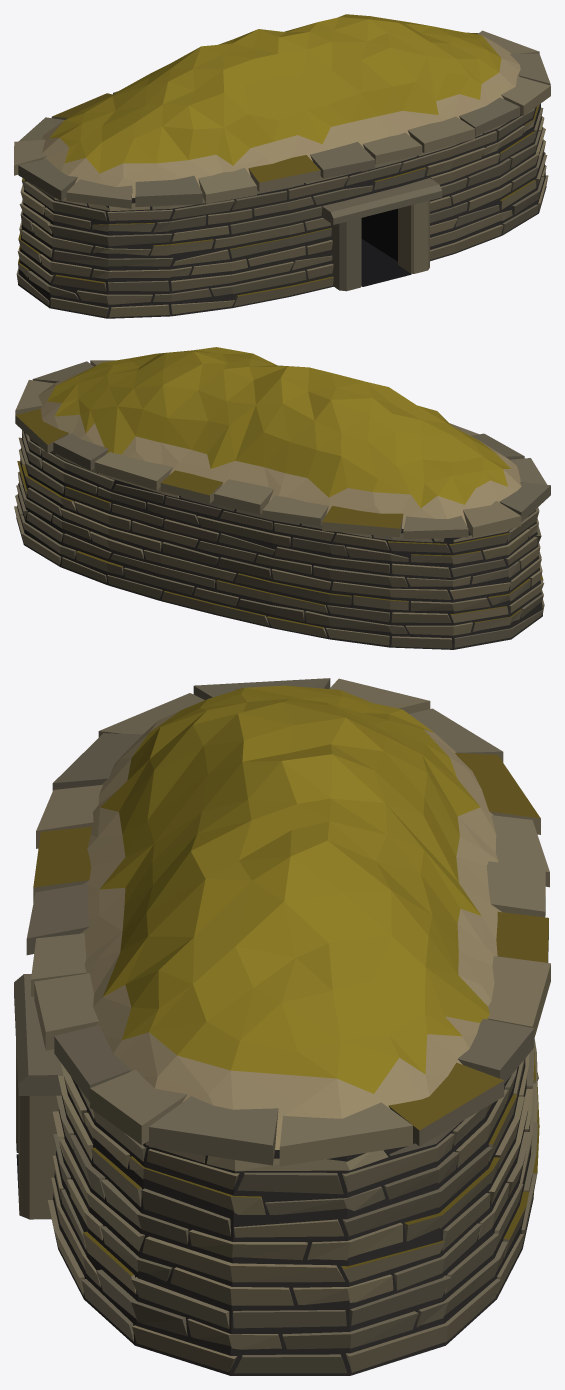
File: orongo-house-run-e35d16.glb
3 views of the same model, one above another, from view 1: azimuth 30°, elevation 25°; view 2: azimuth 150°, elevation 25°; view 3: azimuth 270°, elevation 25° (orthographic). The views are drawn at different scales.
Parts seen in each view (by area): view 1: house; view 2: house; view 3: house.
Boxes of the visible parts, x1,y1,x2,y2 form: house: (14, 14, 550, 318); house: (14, 347, 550, 649); house: (14, 678, 550, 1375).
Size of the model in its own units: 3.89 by 1.47 by 1.88.
